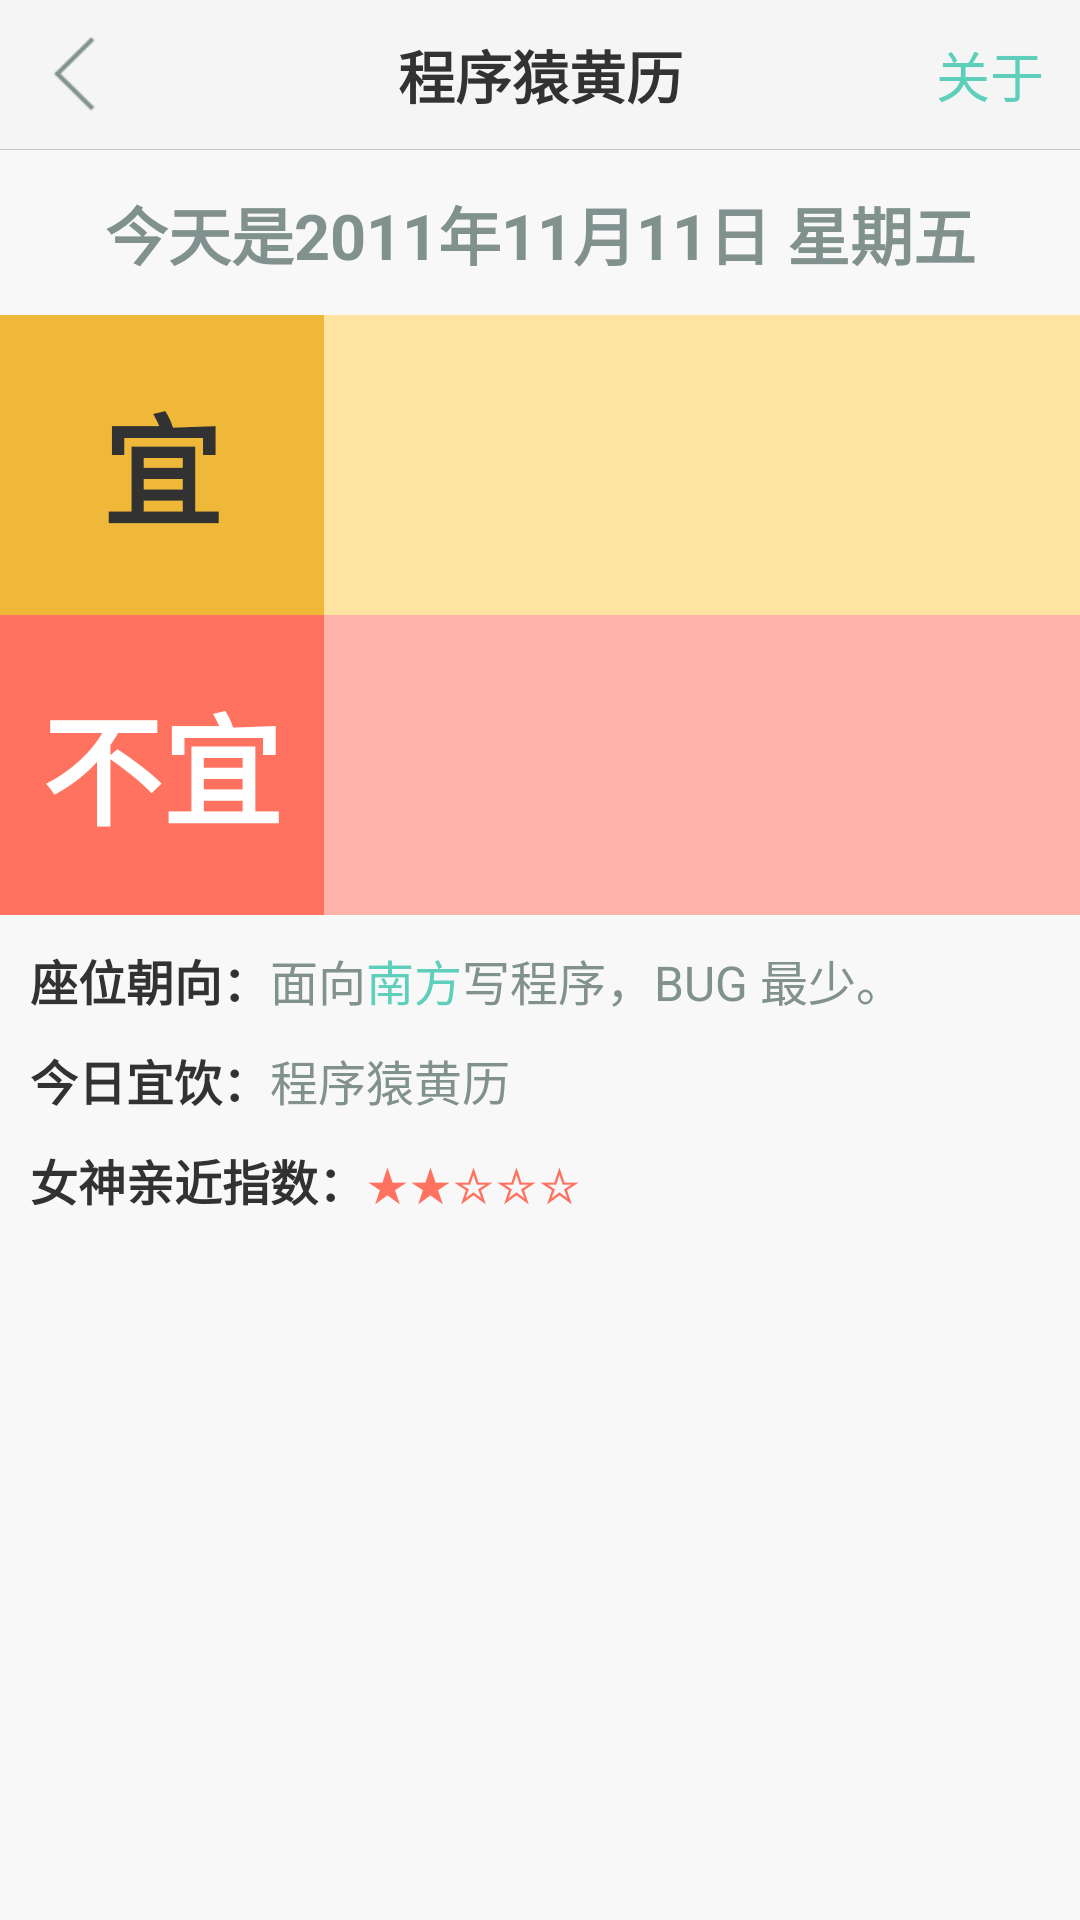

Icons on this 1080x1920 Android screen, each with the point to tap as point (x, y):
back: point (74, 73)
